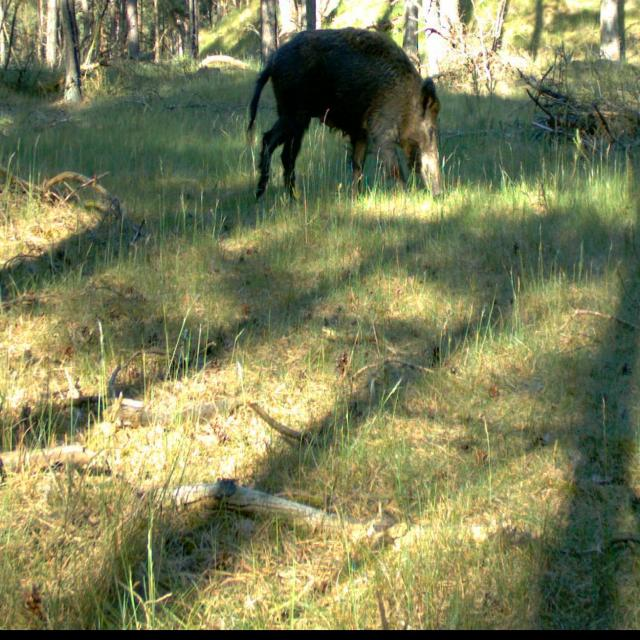pig: (237, 15, 481, 204)
